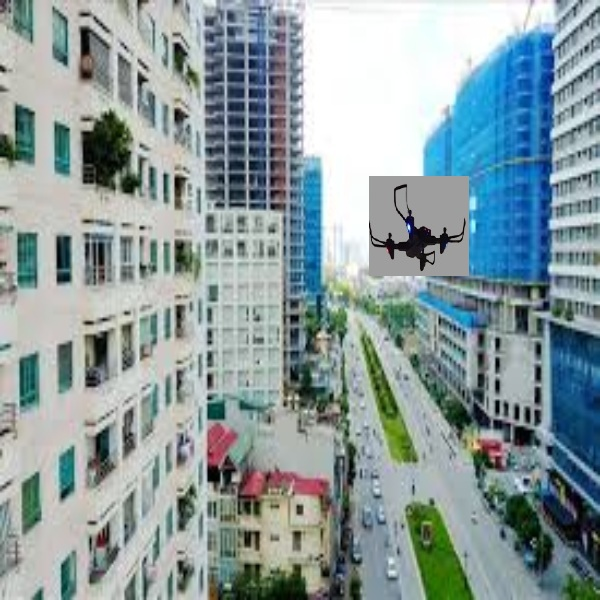drone: (367, 176, 467, 276)
